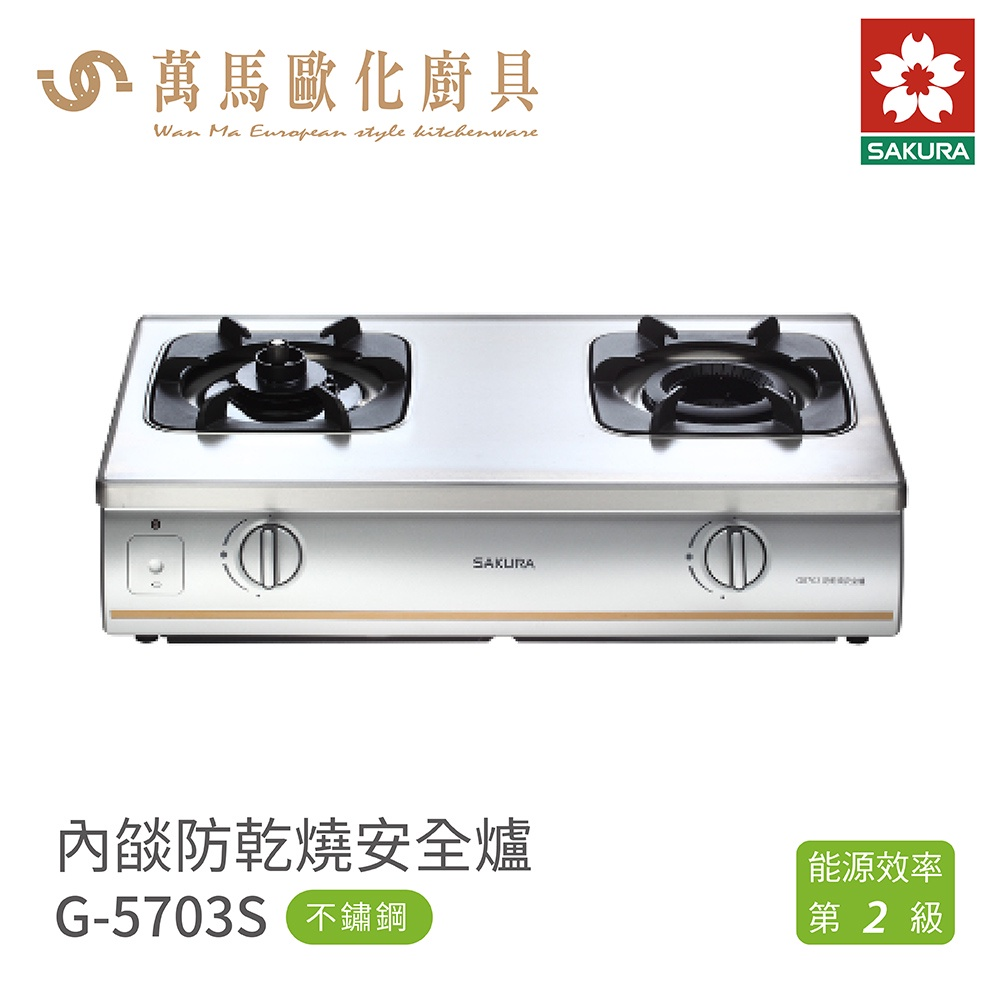gasoven: (79, 301, 919, 662)
